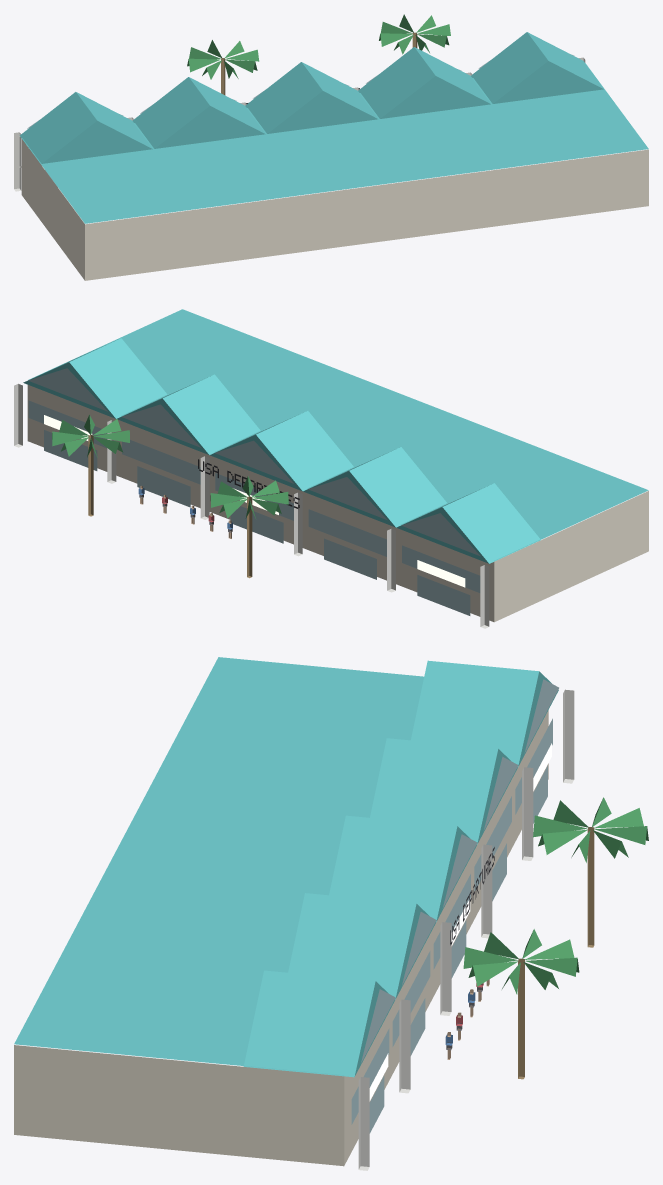
Rendered from apt_usa_dep.glb.
3 views of the same model, one above another, from view 1: azimuth 30°, elevation 25°; view 2: azimuth 150°, elevation 25°; view 3: azimuth 270°, elevation 25° (orthographic). The views are drawn at different scales.
Visible parts, largest first — view 1: apt_usa_dep_lod0; view 2: apt_usa_dep_lod0; view 3: apt_usa_dep_lod0.
Boxes of the visible parts, x1,y1,x2,y2 form: apt_usa_dep_lod0: (14, 14, 648, 280); apt_usa_dep_lod0: (14, 309, 648, 628); apt_usa_dep_lod0: (14, 657, 648, 1170).
Size of what is drawn, in the model's own units: 66.06 by 10.8 by 41.93.
